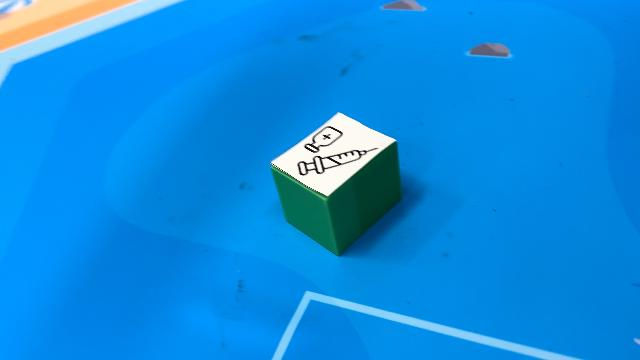syringe: (268, 113, 402, 255)
